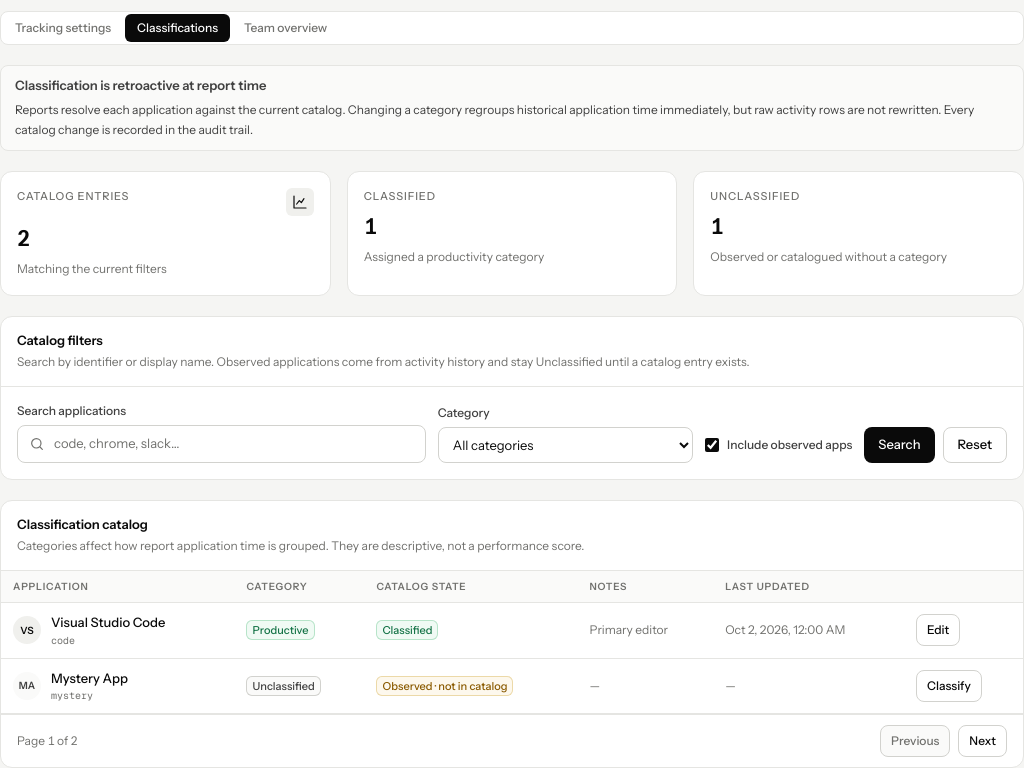
Test case: ApplicationClassificationsView › classifies an observed application with a create request
(page scrolled)
Expected: the text "Mystery App" is shown, [51,668,128,688]
Click the button "Classify". click: (949, 686)
box: [916,670,982,702]
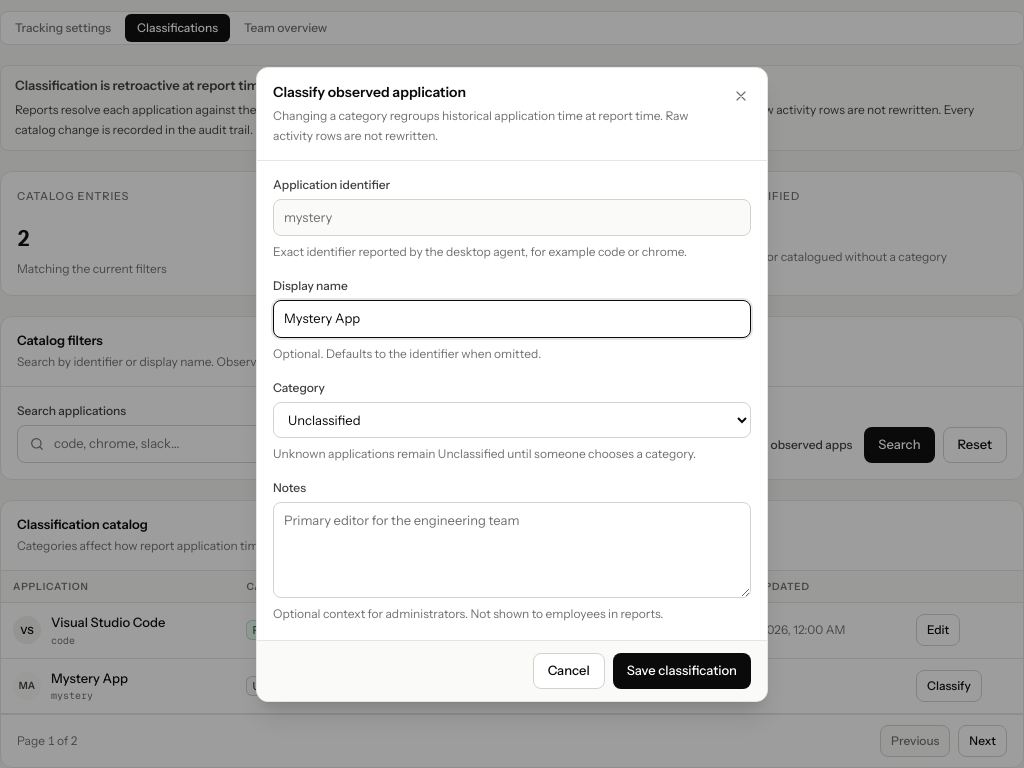
Result: the field labelled "Application identifier" is disabled at [273,198,751,236]
Select "Neutral" in the dropdown labelled "Category". click: (512, 420)
box: [273,402,751,438]
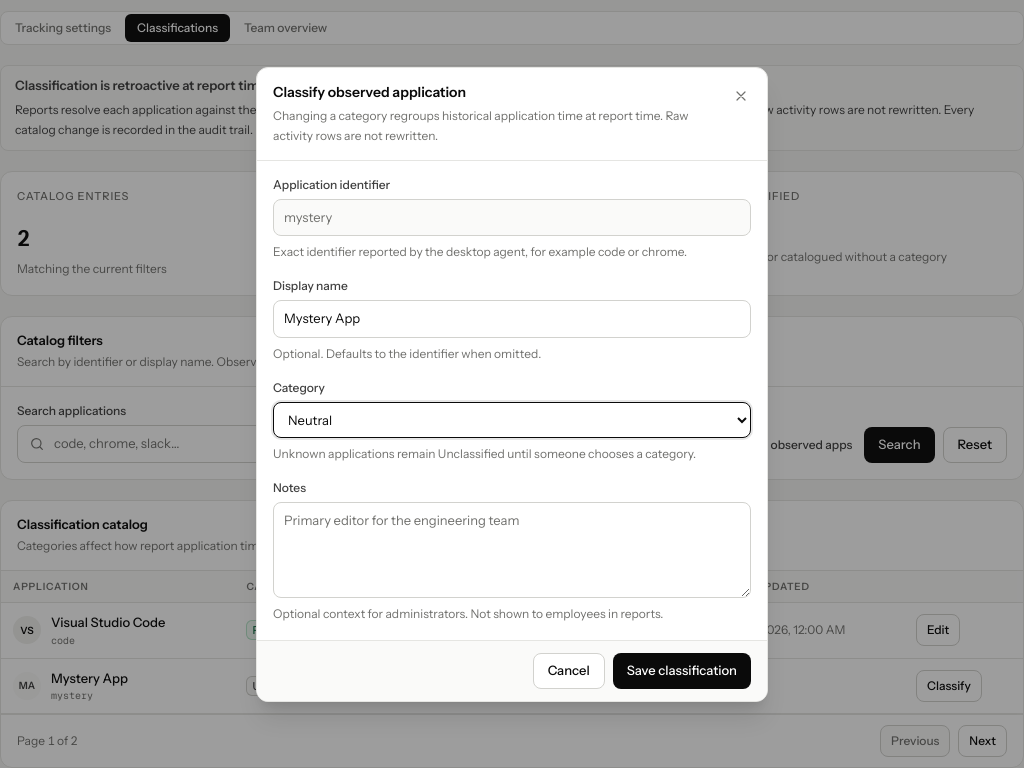
Click the button "Save classification". click: (682, 670)
box: [613,652,751,688]
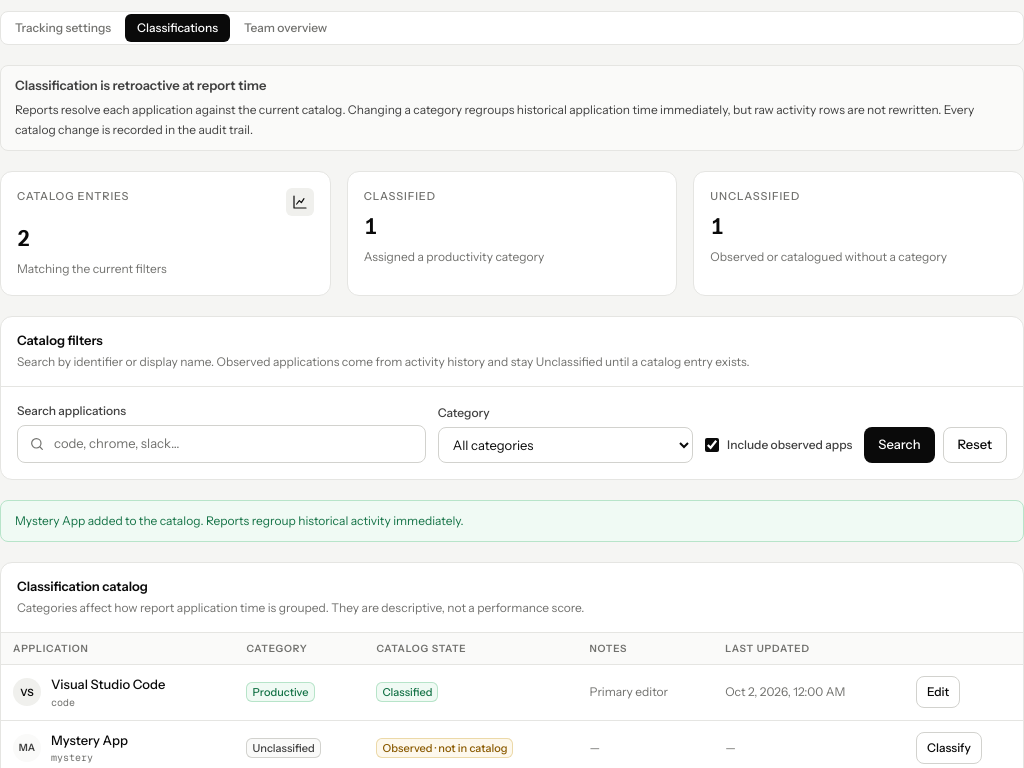
Result: the text "Mystery App added to the catalog" is shown at [15,512,464,528]
